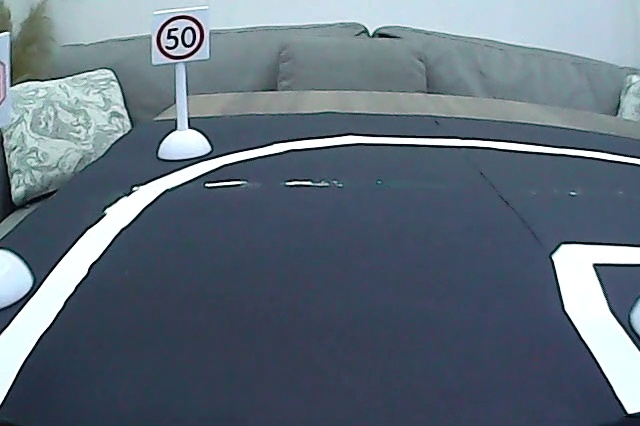speed limit 50: (156, 11, 207, 63)
